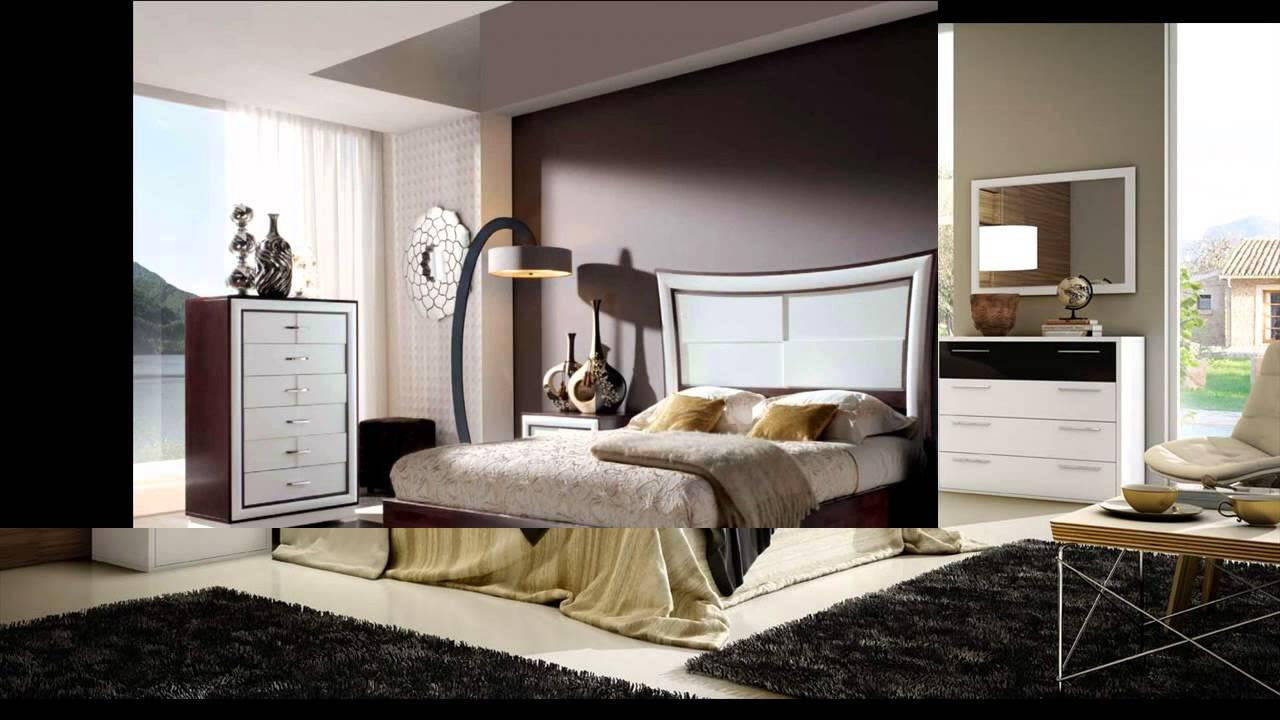bed: (530, 350, 815, 537)
